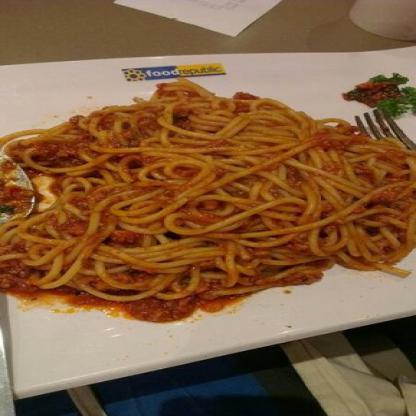pasta: (0, 77, 415, 323)
